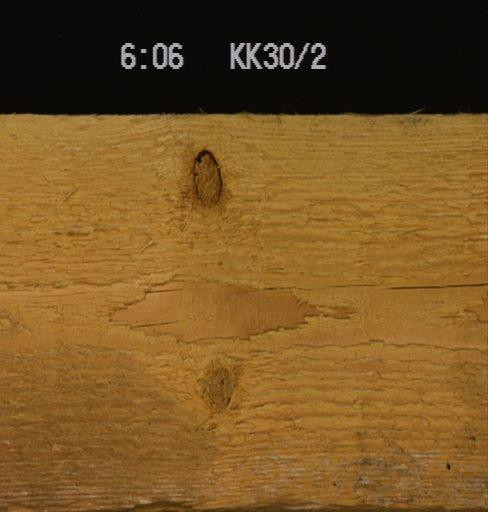dry_knot: (188, 148, 223, 210)
sound_knot: (199, 361, 240, 415)
split: (388, 280, 486, 291), (129, 318, 177, 327), (142, 284, 185, 294)
wave: (121, 494, 316, 510)
